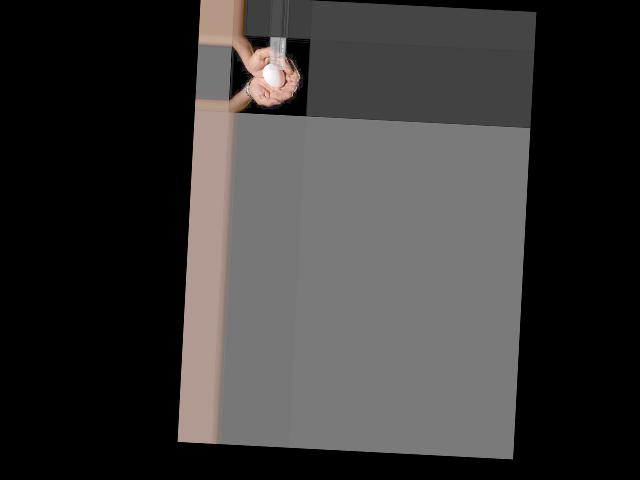egg: (262, 63, 286, 88)
